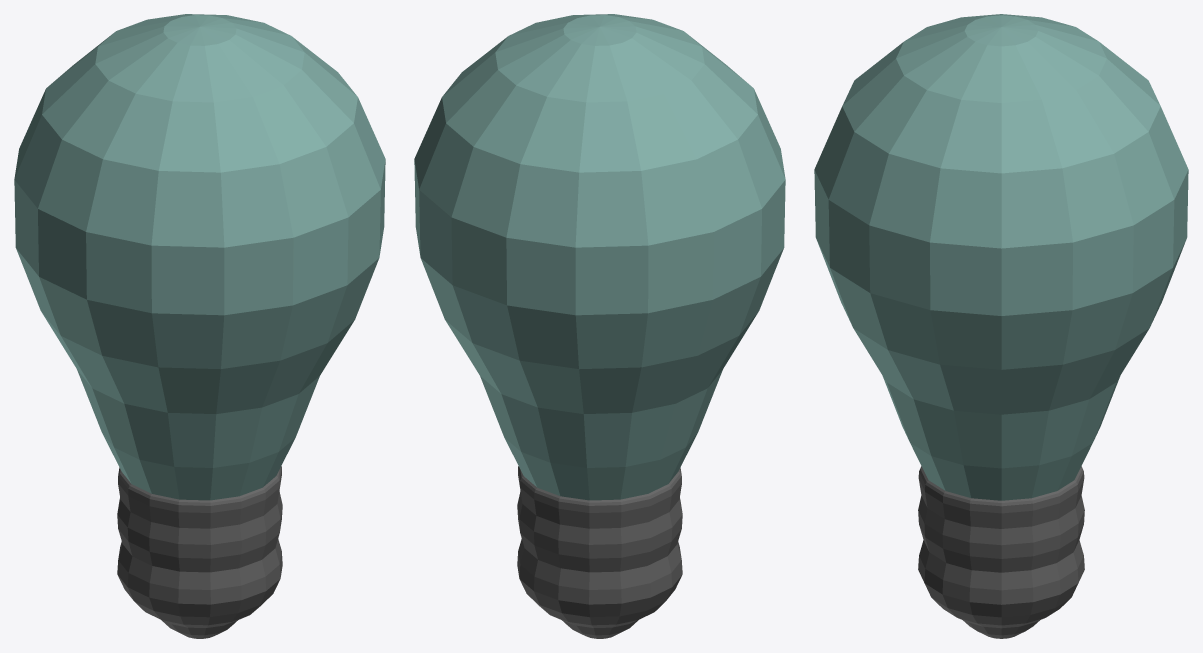
The model's file is bulb_custom.obj.
3 renders of one model, left to right at view 1: azimuth 30°, elevation 25°; view 2: azimuth 150°, elevation 25°; view 3: azimuth 270°, elevation 25°, orthographic.
Parts seen in each view (by area): view 1: Obj_000001, Obj_000002; view 2: Obj_000001, Obj_000002; view 3: Obj_000001, Obj_000002.
Part boxes in pixels (box(x1,y1,x2,y2)): Obj_000001: box(14, 14, 385, 500); Obj_000002: box(117, 466, 282, 638); Obj_000001: box(414, 14, 785, 500); Obj_000002: box(517, 466, 682, 638); Obj_000001: box(814, 14, 1188, 500); Obj_000002: box(918, 466, 1084, 638).
Size of the model in its own units: 1.74 by 3.12 by 1.74.
